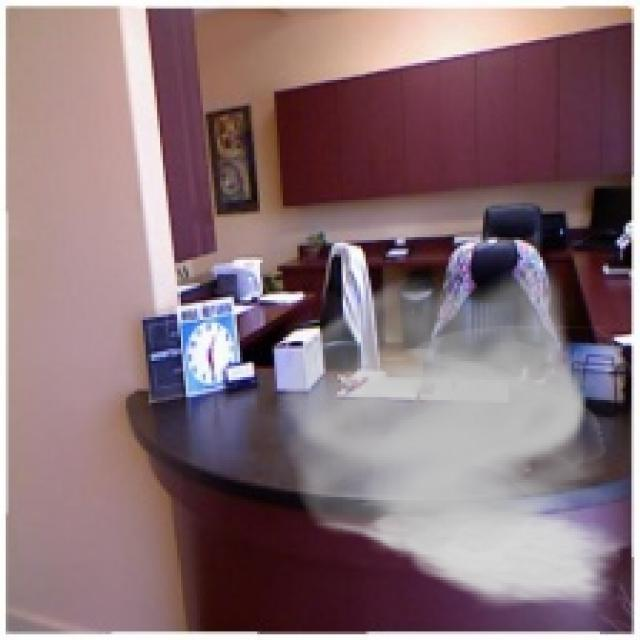smoke: (268, 266, 628, 611)
